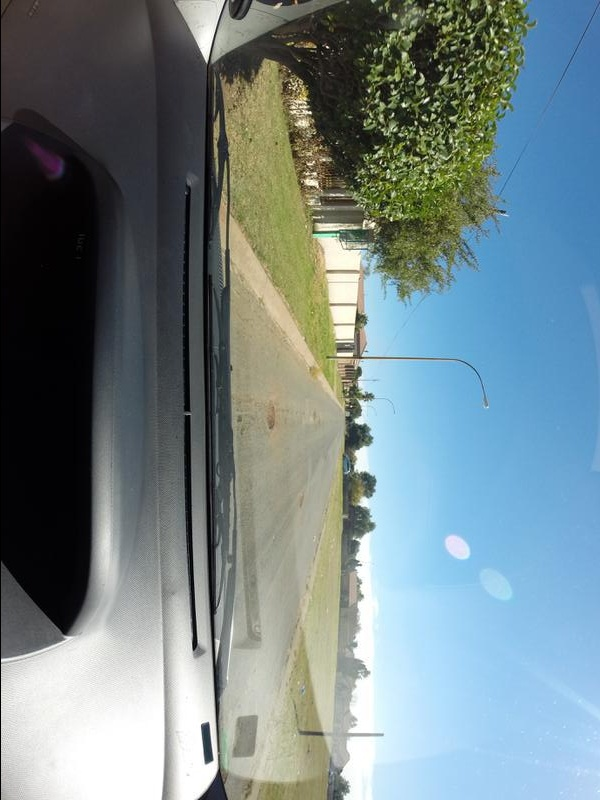pothole: (265, 400, 276, 431), (292, 491, 305, 509), (309, 413, 319, 423), (236, 409, 241, 428)
